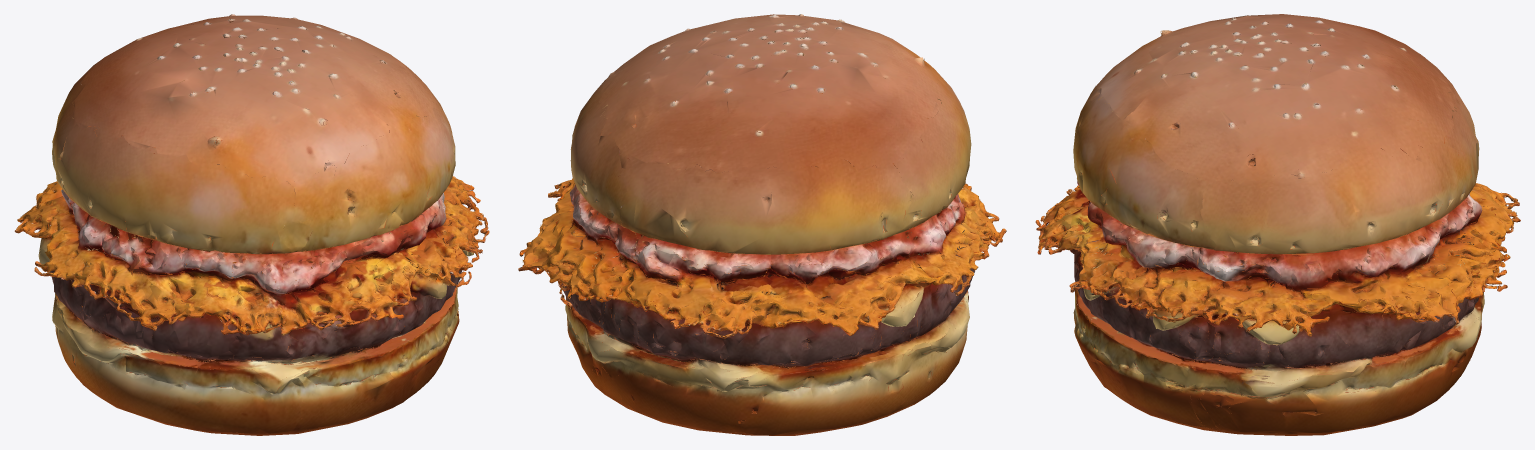
Rendered from SantoBurger_test_uncompressed.glb.
3 views of the same model, side by side, from view 1: azimuth 30°, elevation 25°; view 2: azimuth 150°, elevation 25°; view 3: azimuth 270°, elevation 25° (orthographic).
Visible parts, largest first — view 1: model; view 2: model; view 3: model.
Part boxes in pixels (bbox=[...]): model: bbox=[14, 14, 489, 435]; model: bbox=[518, 14, 1006, 435]; model: bbox=[1035, 14, 1520, 435].
Bounding box in the file's own units: 1.9 × 1.4 × 1.93.
1 material, 1 textured.
